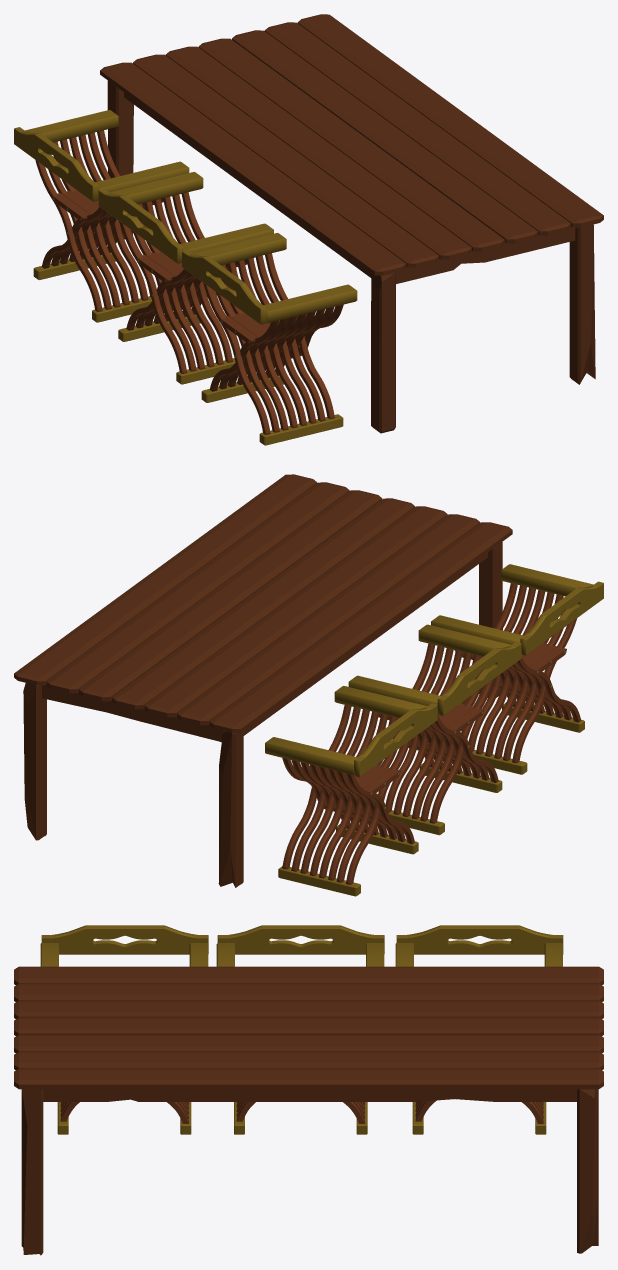
The model's file is silla medieval con mesa.fbx.
3 views of the same model, one above another, from view 1: azimuth 30°, elevation 25°; view 2: azimuth 150°, elevation 25°; view 3: azimuth 270°, elevation 25° (orthographic). The views are drawn at different scales.
Visible parts, largest first — view 1: Cube.015, Cube.032, Cube.001, Cube.031; view 2: Cube.015, Cube.001, Cube.031, Cube.032; view 3: Cube.015, Cube.001, Cube.032, Cube.031.
Boxes of the visible parts, x1=… form: Cube.015: x1=100, y1=14, x2=603, y2=433; Cube.032: x1=182, y1=233, x2=357, y2=445; Cube.001: x1=14, y1=110, x2=189, y2=322; Cube.031: x1=98, y1=172, x2=273, y2=384; Cube.015: x1=14, y1=474, x2=512, y2=887; Cube.001: x1=265, y1=686, x2=437, y2=896; Cube.031: x1=348, y1=624, x2=521, y2=835; Cube.032: x1=431, y1=564, x2=603, y2=774; Cube.015: x1=14, y1=966, x2=603, y2=1255; Cube.001: x1=395, y1=925, x2=563, y2=1134; Cube.032: x1=40, y1=925, x2=208, y2=1134; Cube.031: x1=216, y1=925, x2=384, y2=1134.
Bounding box in the file's own units: 395 × 190 × 574.
